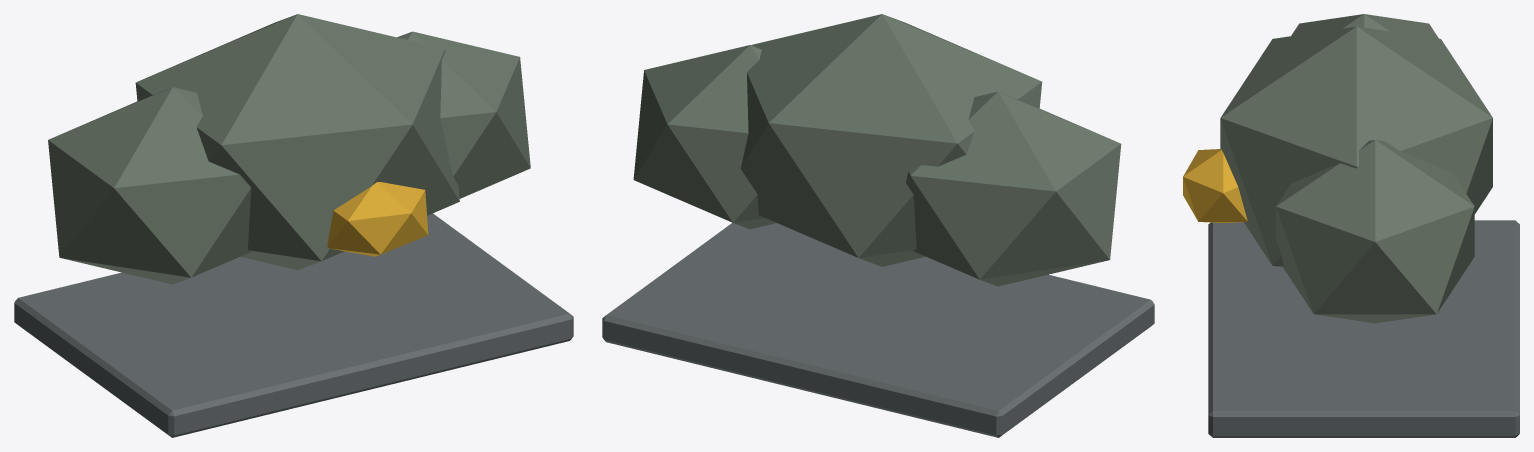
File: PRP_CITY_031_small_bush_cluster.glb
3 renders of one model, left to right at view 1: azimuth 30°, elevation 25°; view 2: azimuth 150°, elevation 25°; view 3: azimuth 270°, elevation 25°, orthographic.
Parts seen in each view (by area): view 1: PRP_CITY_031_small_bush_cluster_RenderMesh; view 2: PRP_CITY_031_small_bush_cluster_RenderMesh; view 3: PRP_CITY_031_small_bush_cluster_RenderMesh.
Boxes of the visible parts, x1,y1,x2,y2 form: PRP_CITY_031_small_bush_cluster_RenderMesh: (14,14,573,437); PRP_CITY_031_small_bush_cluster_RenderMesh: (602,14,1154,437); PRP_CITY_031_small_bush_cluster_RenderMesh: (1183,14,1519,437).
Size of the model in its own units: 1.43 by 0.9404 by 0.9085.
